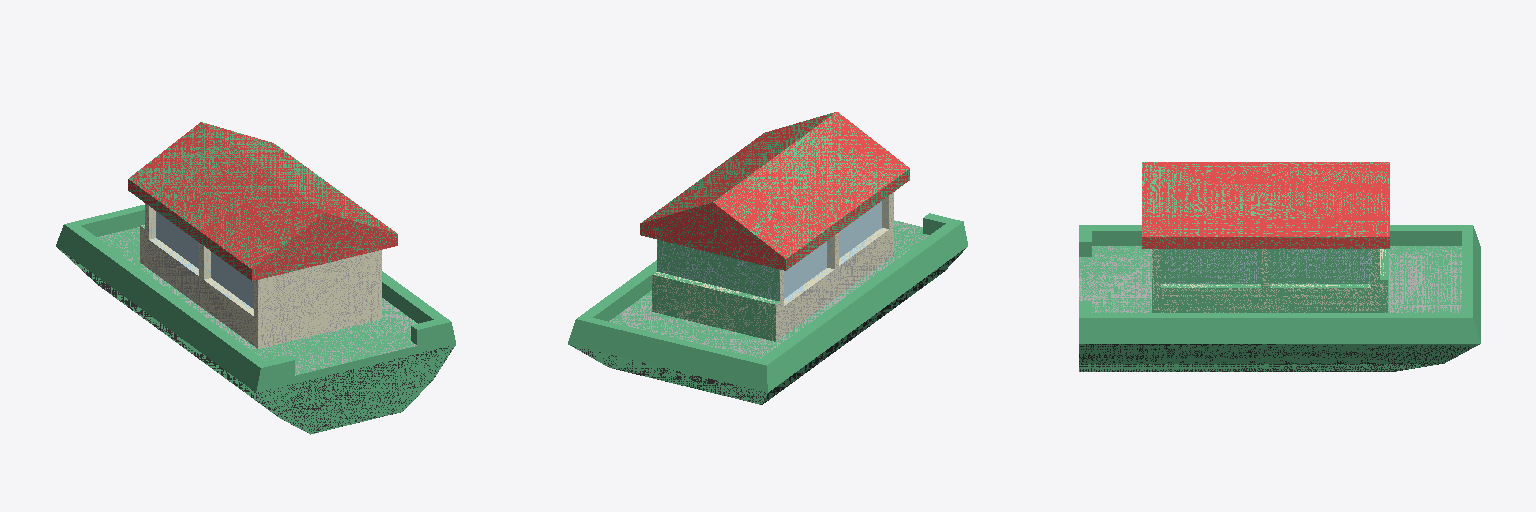
Rendered from boat_024.obj.
3 renders of one model, left to right at view 1: azimuth 30°, elevation 25°; view 2: azimuth 150°, elevation 25°; view 3: azimuth 270°, elevation 25°, orthographic.
Parts seen in each view (by area): view 1: boat_024; view 2: boat_024; view 3: boat_024.
Boxes of the visible parts, x1=… form: boat_024: x1=56, y1=122, x2=455, y2=434; boat_024: x1=568, y1=112, x2=967, y2=404; boat_024: x1=1079, y1=162, x2=1480, y2=371.
Size of the model in its own units: 2.68 by 2.4 by 4.64.